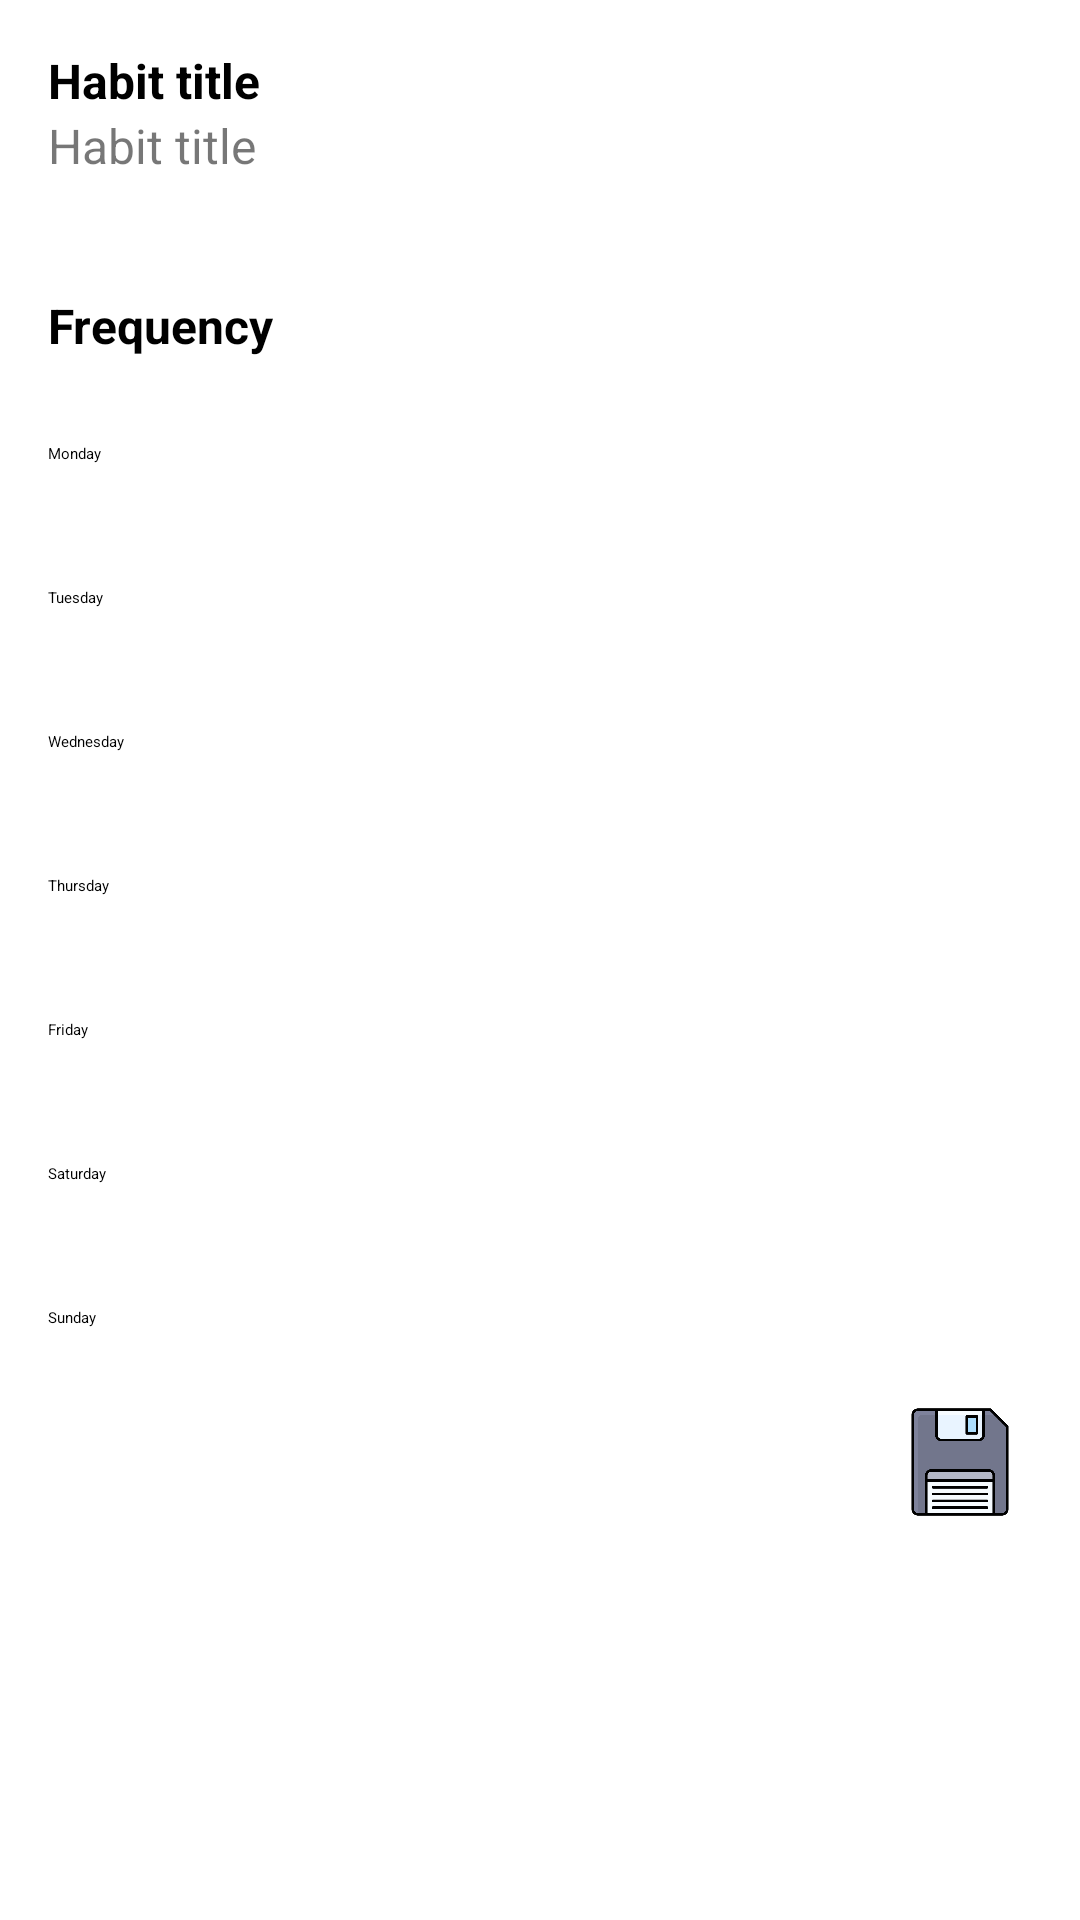

Screen size 1080 × 1920. Icon name, then its center in pixels as (x,y):
Save: (960,1462)
